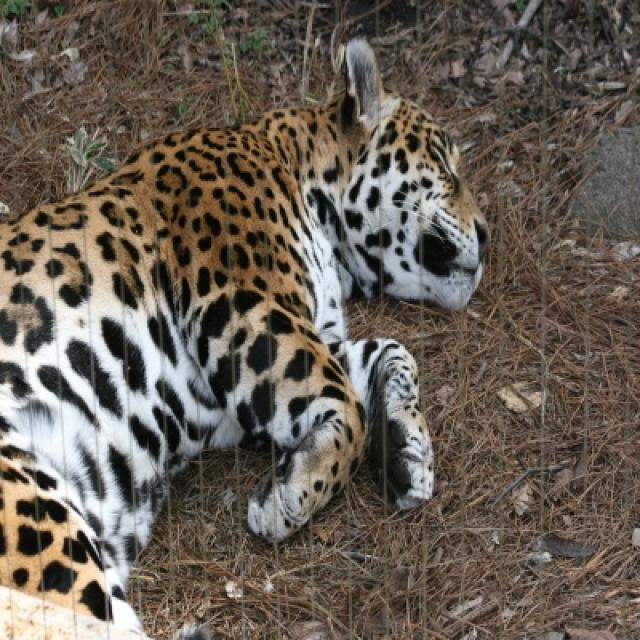Jaguar: (0, 38, 488, 638)
